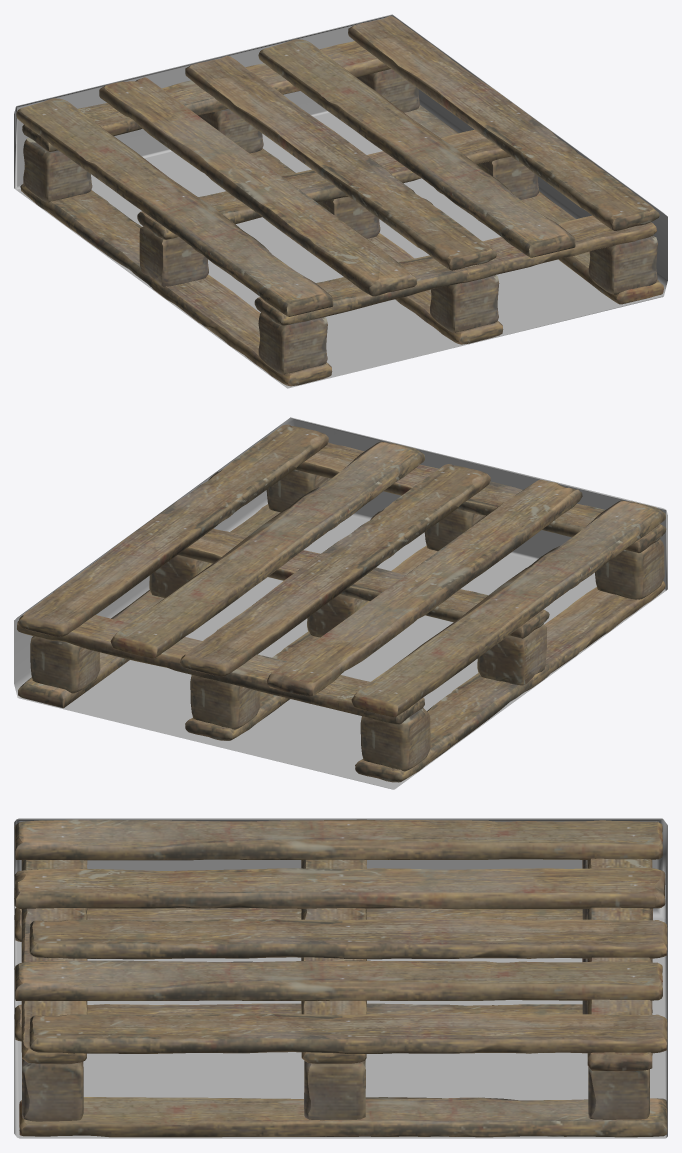
Rendered from SM_Pallet.gltf.
3 renders of one model, top to bottom at view 1: azimuth 30°, elevation 25°; view 2: azimuth 150°, elevation 25°; view 3: azimuth 270°, elevation 25°, orthographic. The views are drawn at different scales.
Visible parts, largest first — view 1: SM_Pallet_LOD0, SM_Pallet_ConvexHulls; view 2: SM_Pallet_LOD0, SM_Pallet_ConvexHulls; view 3: SM_Pallet_LOD0, SM_Pallet_ConvexHulls.
Part boxes in pixels (x1,y1,x2,y2): SM_Pallet_LOD0: [16, 16, 663, 386]; SM_Pallet_ConvexHulls: [14, 14, 667, 388]; SM_Pallet_LOD0: [17, 424, 666, 782]; SM_Pallet_ConvexHulls: [14, 417, 667, 789]; SM_Pallet_LOD0: [14, 819, 667, 1137]; SM_Pallet_ConvexHulls: [14, 818, 667, 1138].
Size of what is drawn, in the model's own units: 1.15 by 0.2372 by 1.4.
